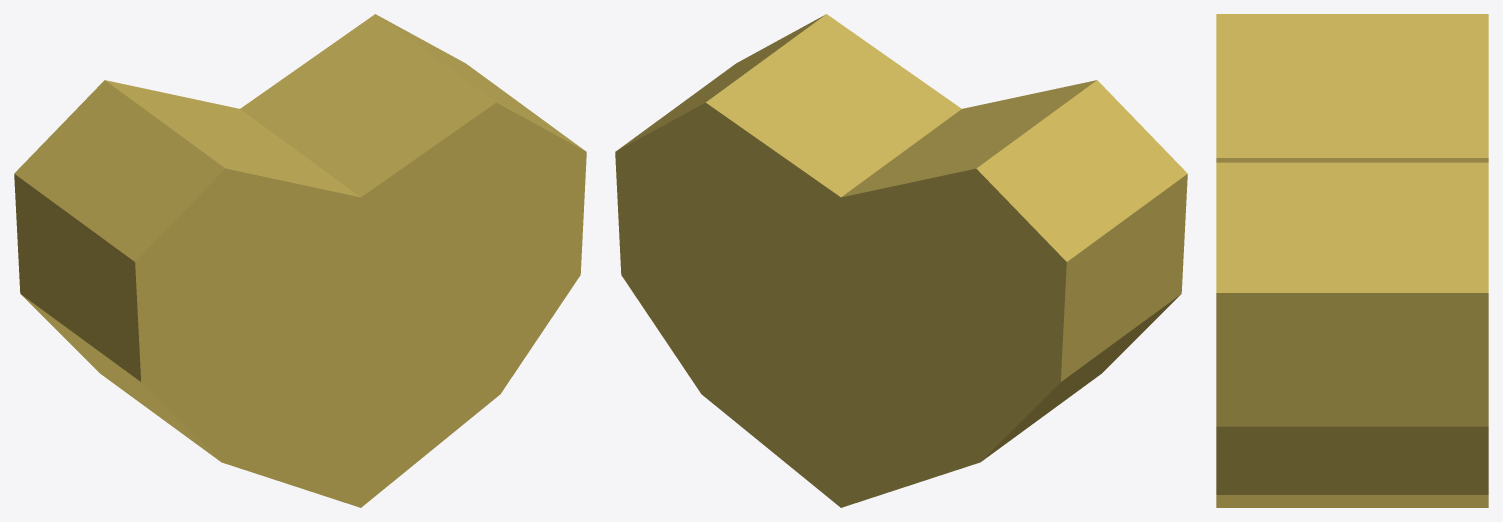
The model's file is Heart.fbx.
3 renders of one model, left to right at view 1: azimuth 30°, elevation 25°; view 2: azimuth 150°, elevation 25°; view 3: azimuth 270°, elevation 25°, orthographic. The views are drawn at different scales.
Parts seen in each view (by area): view 1: Heart; view 2: Heart; view 3: Heart.
Boxes of the visible parts, x1,y1,x2,y2 form: Heart: [14, 14, 586, 507]; Heart: [615, 14, 1187, 507]; Heart: [1216, 14, 1488, 507].
Bounding box in the file's own units: 34.21 × 26.96 × 15.87.
